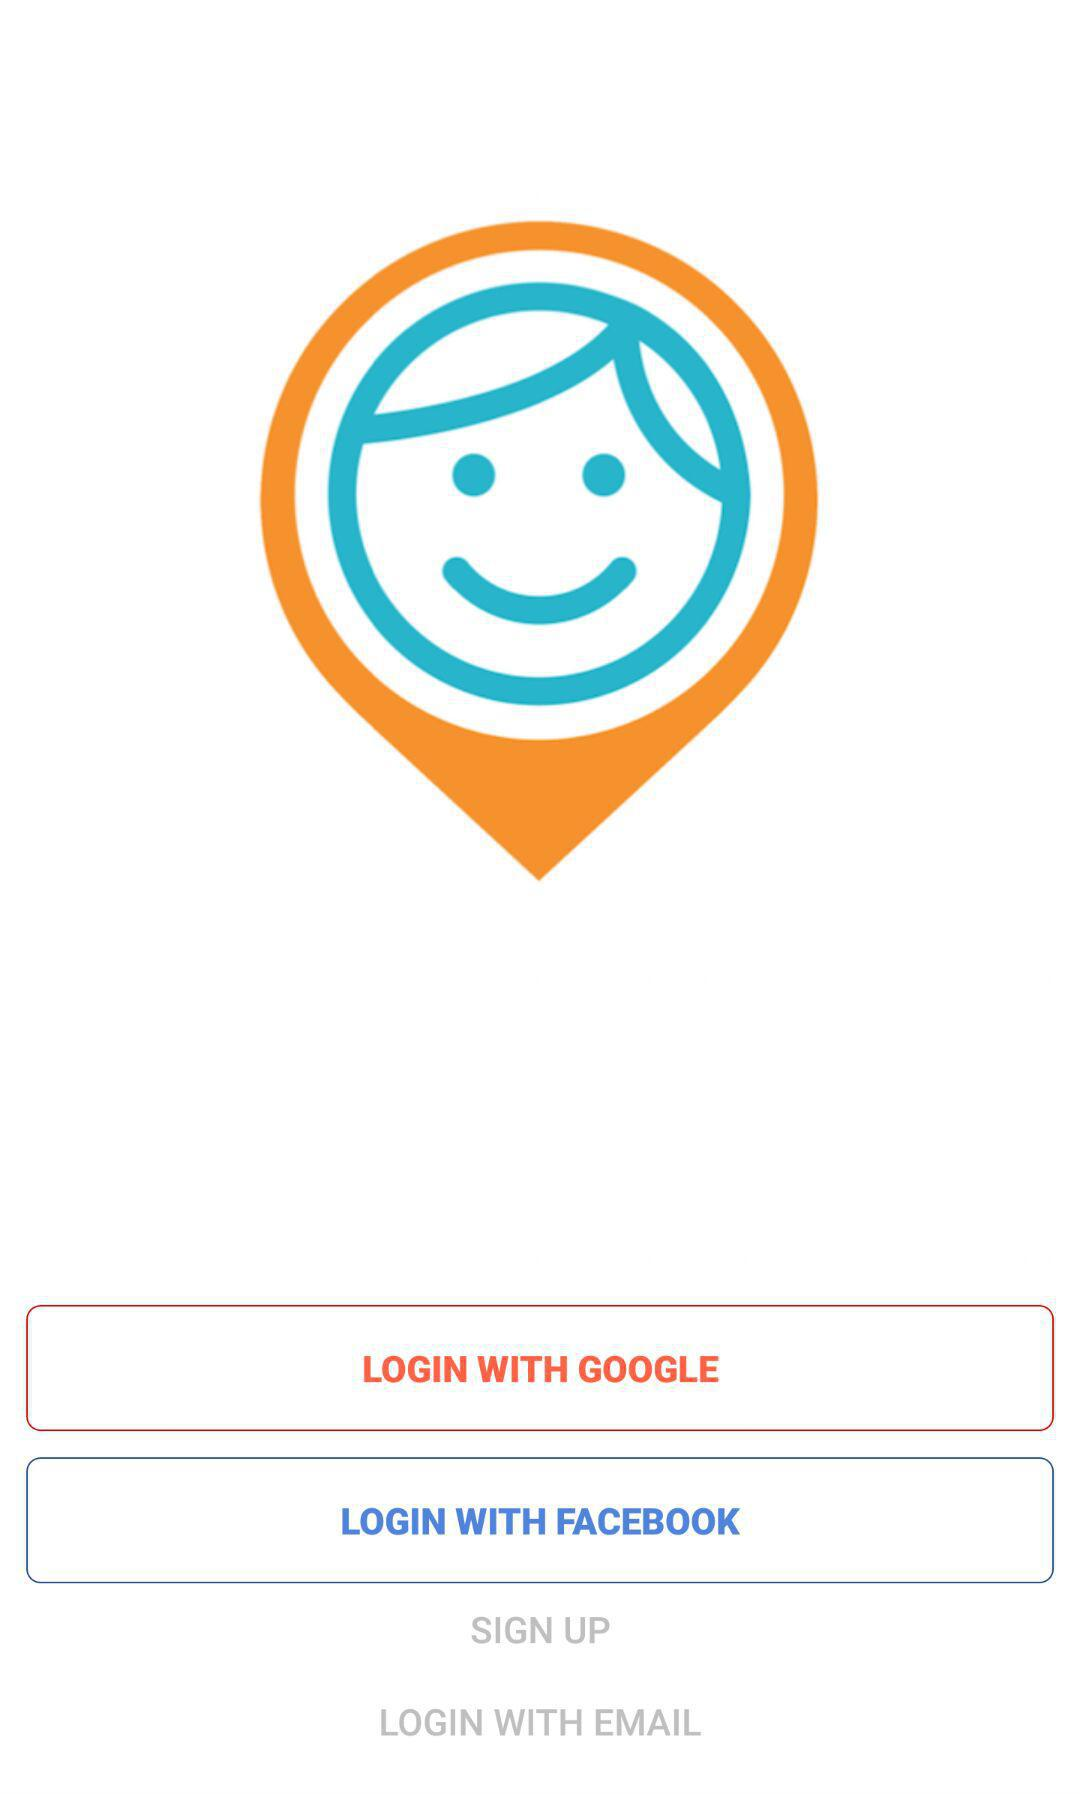Image: (259, 220, 821, 883)
Text: (380, 1708, 703, 1738), (471, 1615, 611, 1645)
TextButton: (26, 1304, 1054, 1433), (26, 1456, 1054, 1584)
